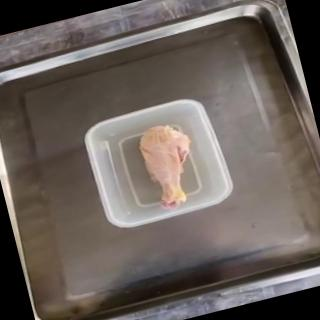Ayam: (133, 119, 206, 215)
